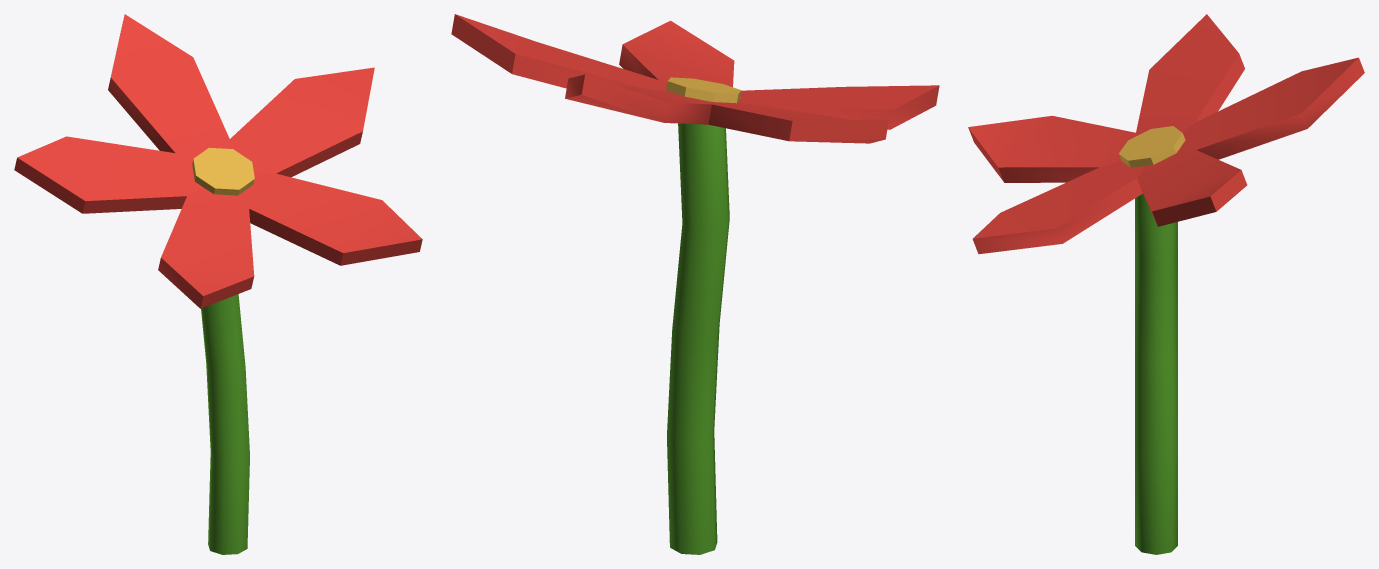
Rendered from Flower_Red_1.fbx.
3 renders of one model, left to right at view 1: azimuth 30°, elevation 25°; view 2: azimuth 150°, elevation 25°; view 3: azimuth 270°, elevation 25°, orthographic. The views are drawn at different scales.
Visible parts, largest first — view 1: Cube.075, Cylinder.246, Cylinder.245; view 2: Cube.075, Cylinder.246, Cylinder.245; view 3: Cube.075, Cylinder.246, Cylinder.245.
Part boxes in pixels (bbox=[...]): Cube.075: bbox=[14, 14, 422, 308]; Cylinder.246: bbox=[201, 294, 249, 554]; Cylinder.245: bbox=[192, 147, 254, 195]; Cube.075: bbox=[451, 14, 939, 143]; Cylinder.246: bbox=[667, 123, 729, 554]; Cylinder.245: bbox=[666, 77, 741, 103]; Cube.075: bbox=[968, 14, 1364, 254]; Cylinder.246: bbox=[1135, 193, 1177, 554]; Cylinder.245: bbox=[1118, 126, 1185, 167].
Bounding box in the file's own units: 71.56 × 88.17 × 65.36.
